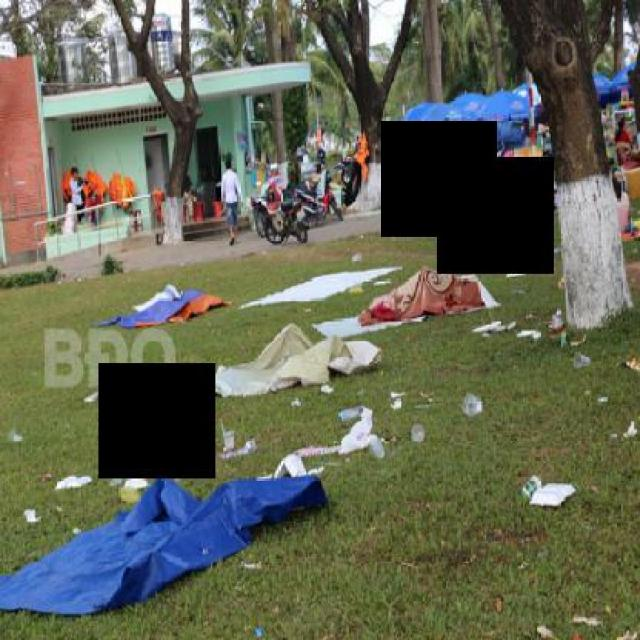plastic bag: (203, 411, 266, 471), (329, 409, 382, 457), (52, 463, 94, 499), (455, 380, 491, 422)
